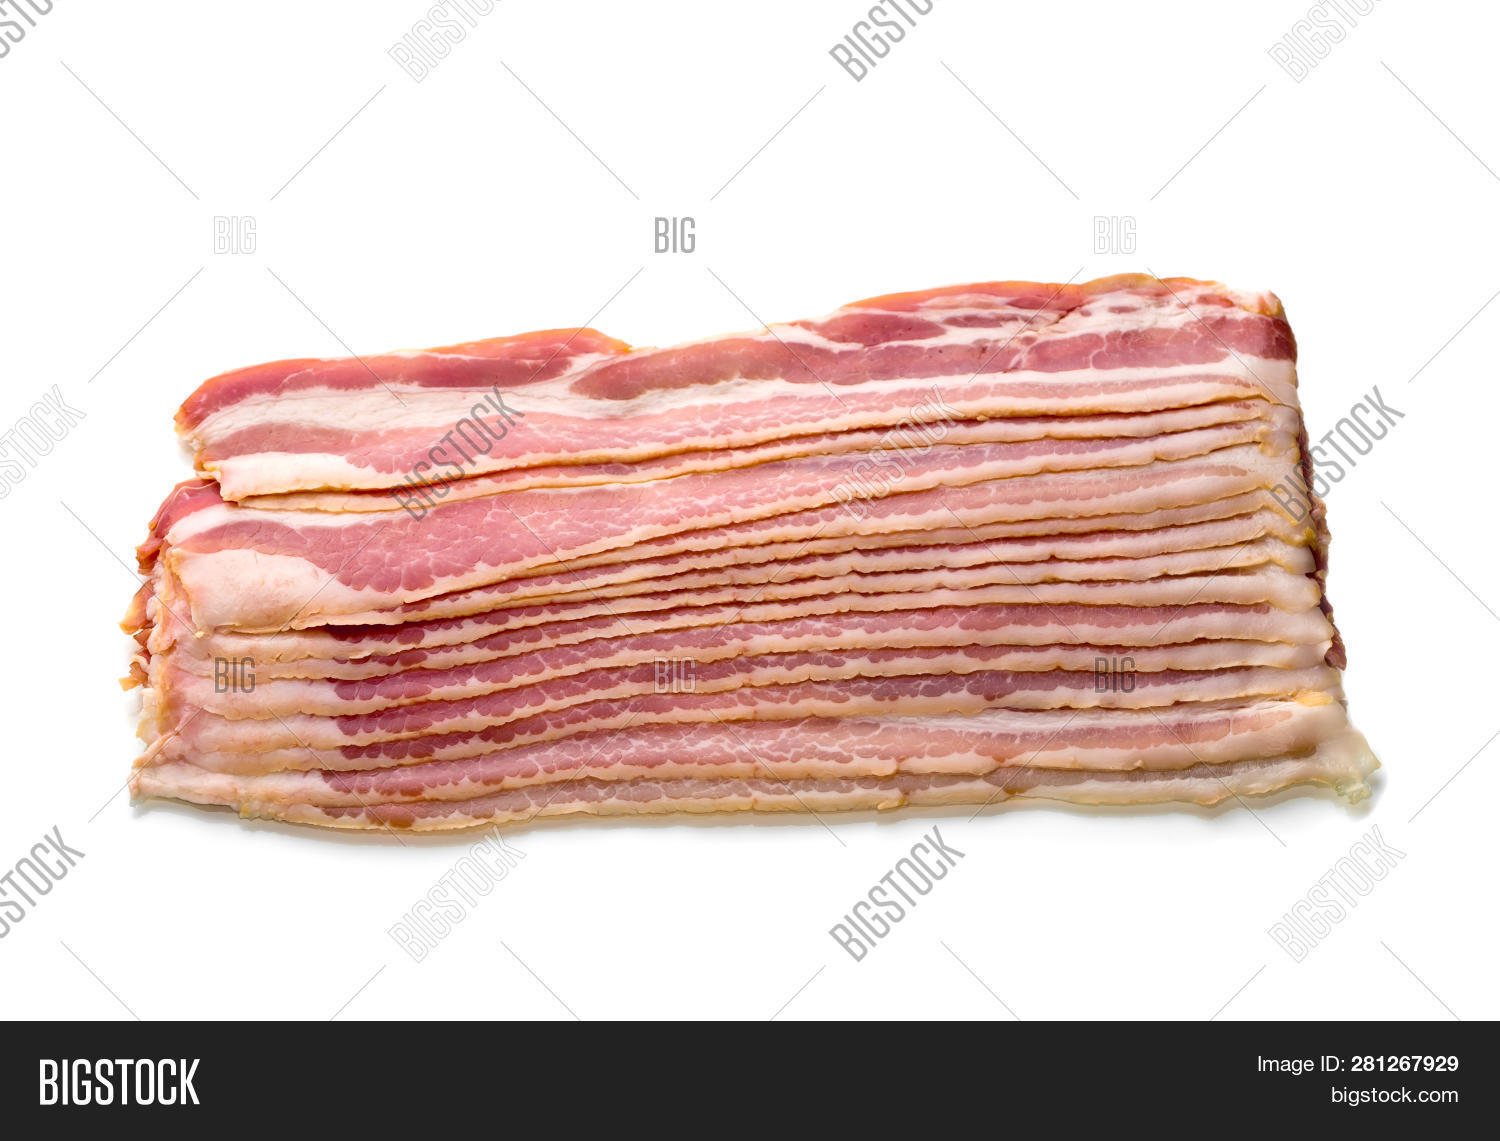bacon: (122, 322, 1357, 840)
